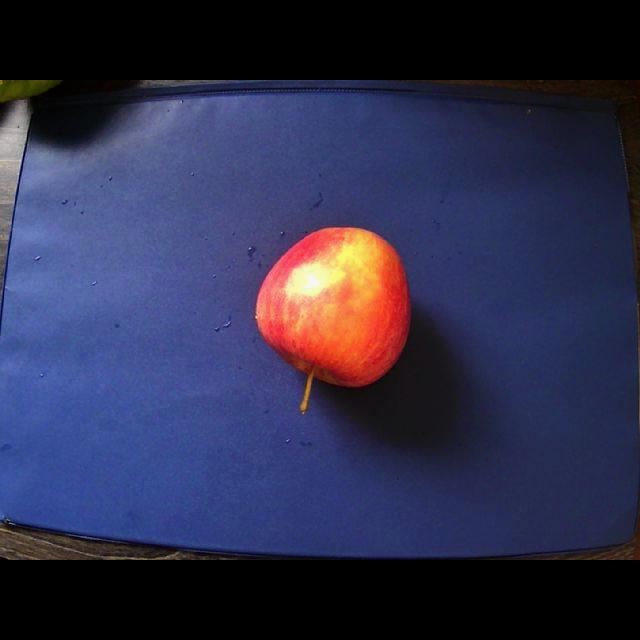manzana: (256, 227, 410, 412)
